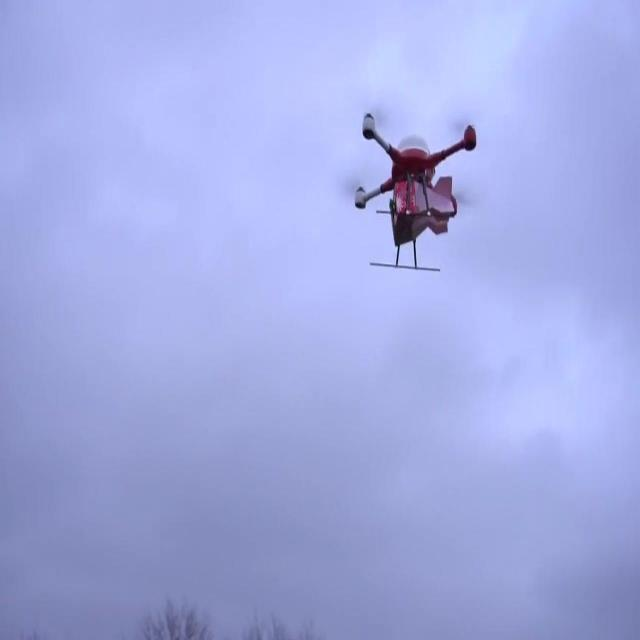UAV: (346, 108, 477, 272)
